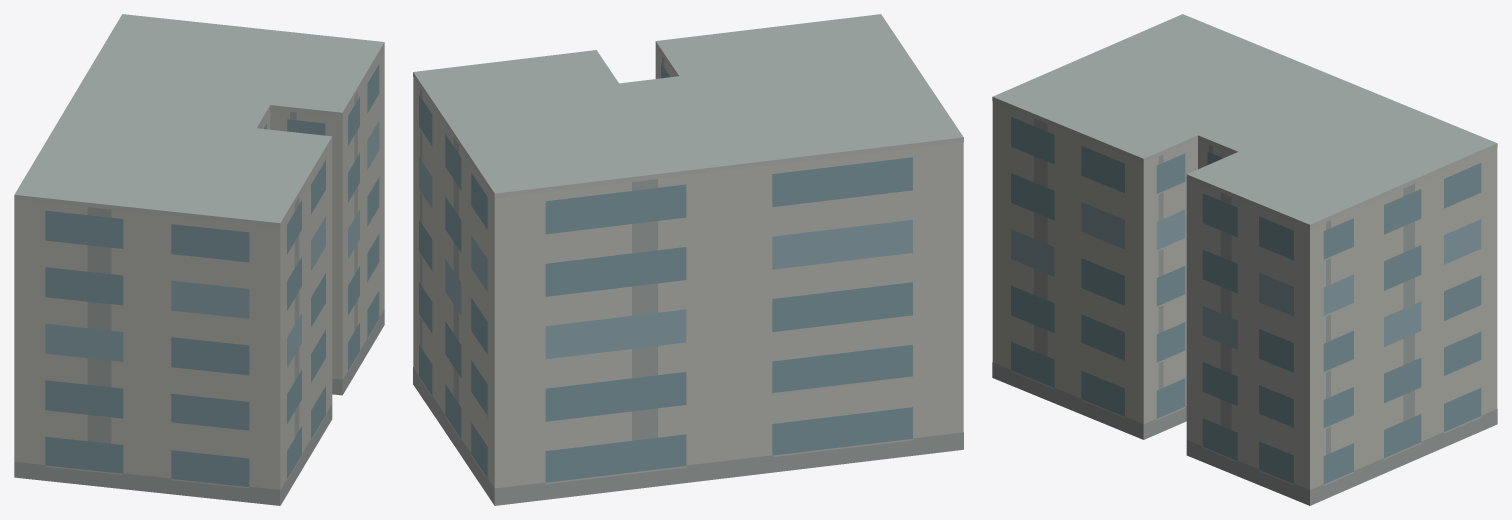
Rendered from residential-5e132291-9655-4283-adb7-cea2b0af3dc6.glb.
3 views of the same model, side by side, from view 1: azimuth 30°, elevation 25°; view 2: azimuth 150°, elevation 25°; view 3: azimuth 270°, elevation 25° (orthographic). The views are drawn at different scales.
Parts seen in each view (by area): view 1: residential-5e132291-9655-4283-adb7-cea2b0af3dc6.tmp; view 2: residential-5e132291-9655-4283-adb7-cea2b0af3dc6.tmp; view 3: residential-5e132291-9655-4283-adb7-cea2b0af3dc6.tmp.
Boxes of the visible parts, bbox=[...] form: residential-5e132291-9655-4283-adb7-cea2b0af3dc6.tmp: bbox=[14, 14, 384, 505]; residential-5e132291-9655-4283-adb7-cea2b0af3dc6.tmp: bbox=[413, 14, 963, 505]; residential-5e132291-9655-4283-adb7-cea2b0af3dc6.tmp: bbox=[992, 14, 1497, 505].
Bounding box in the file's own units: 24.53 × 15.25 × 24.83.
